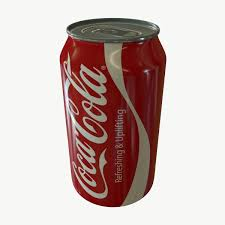coke: (61, 60, 117, 201)
